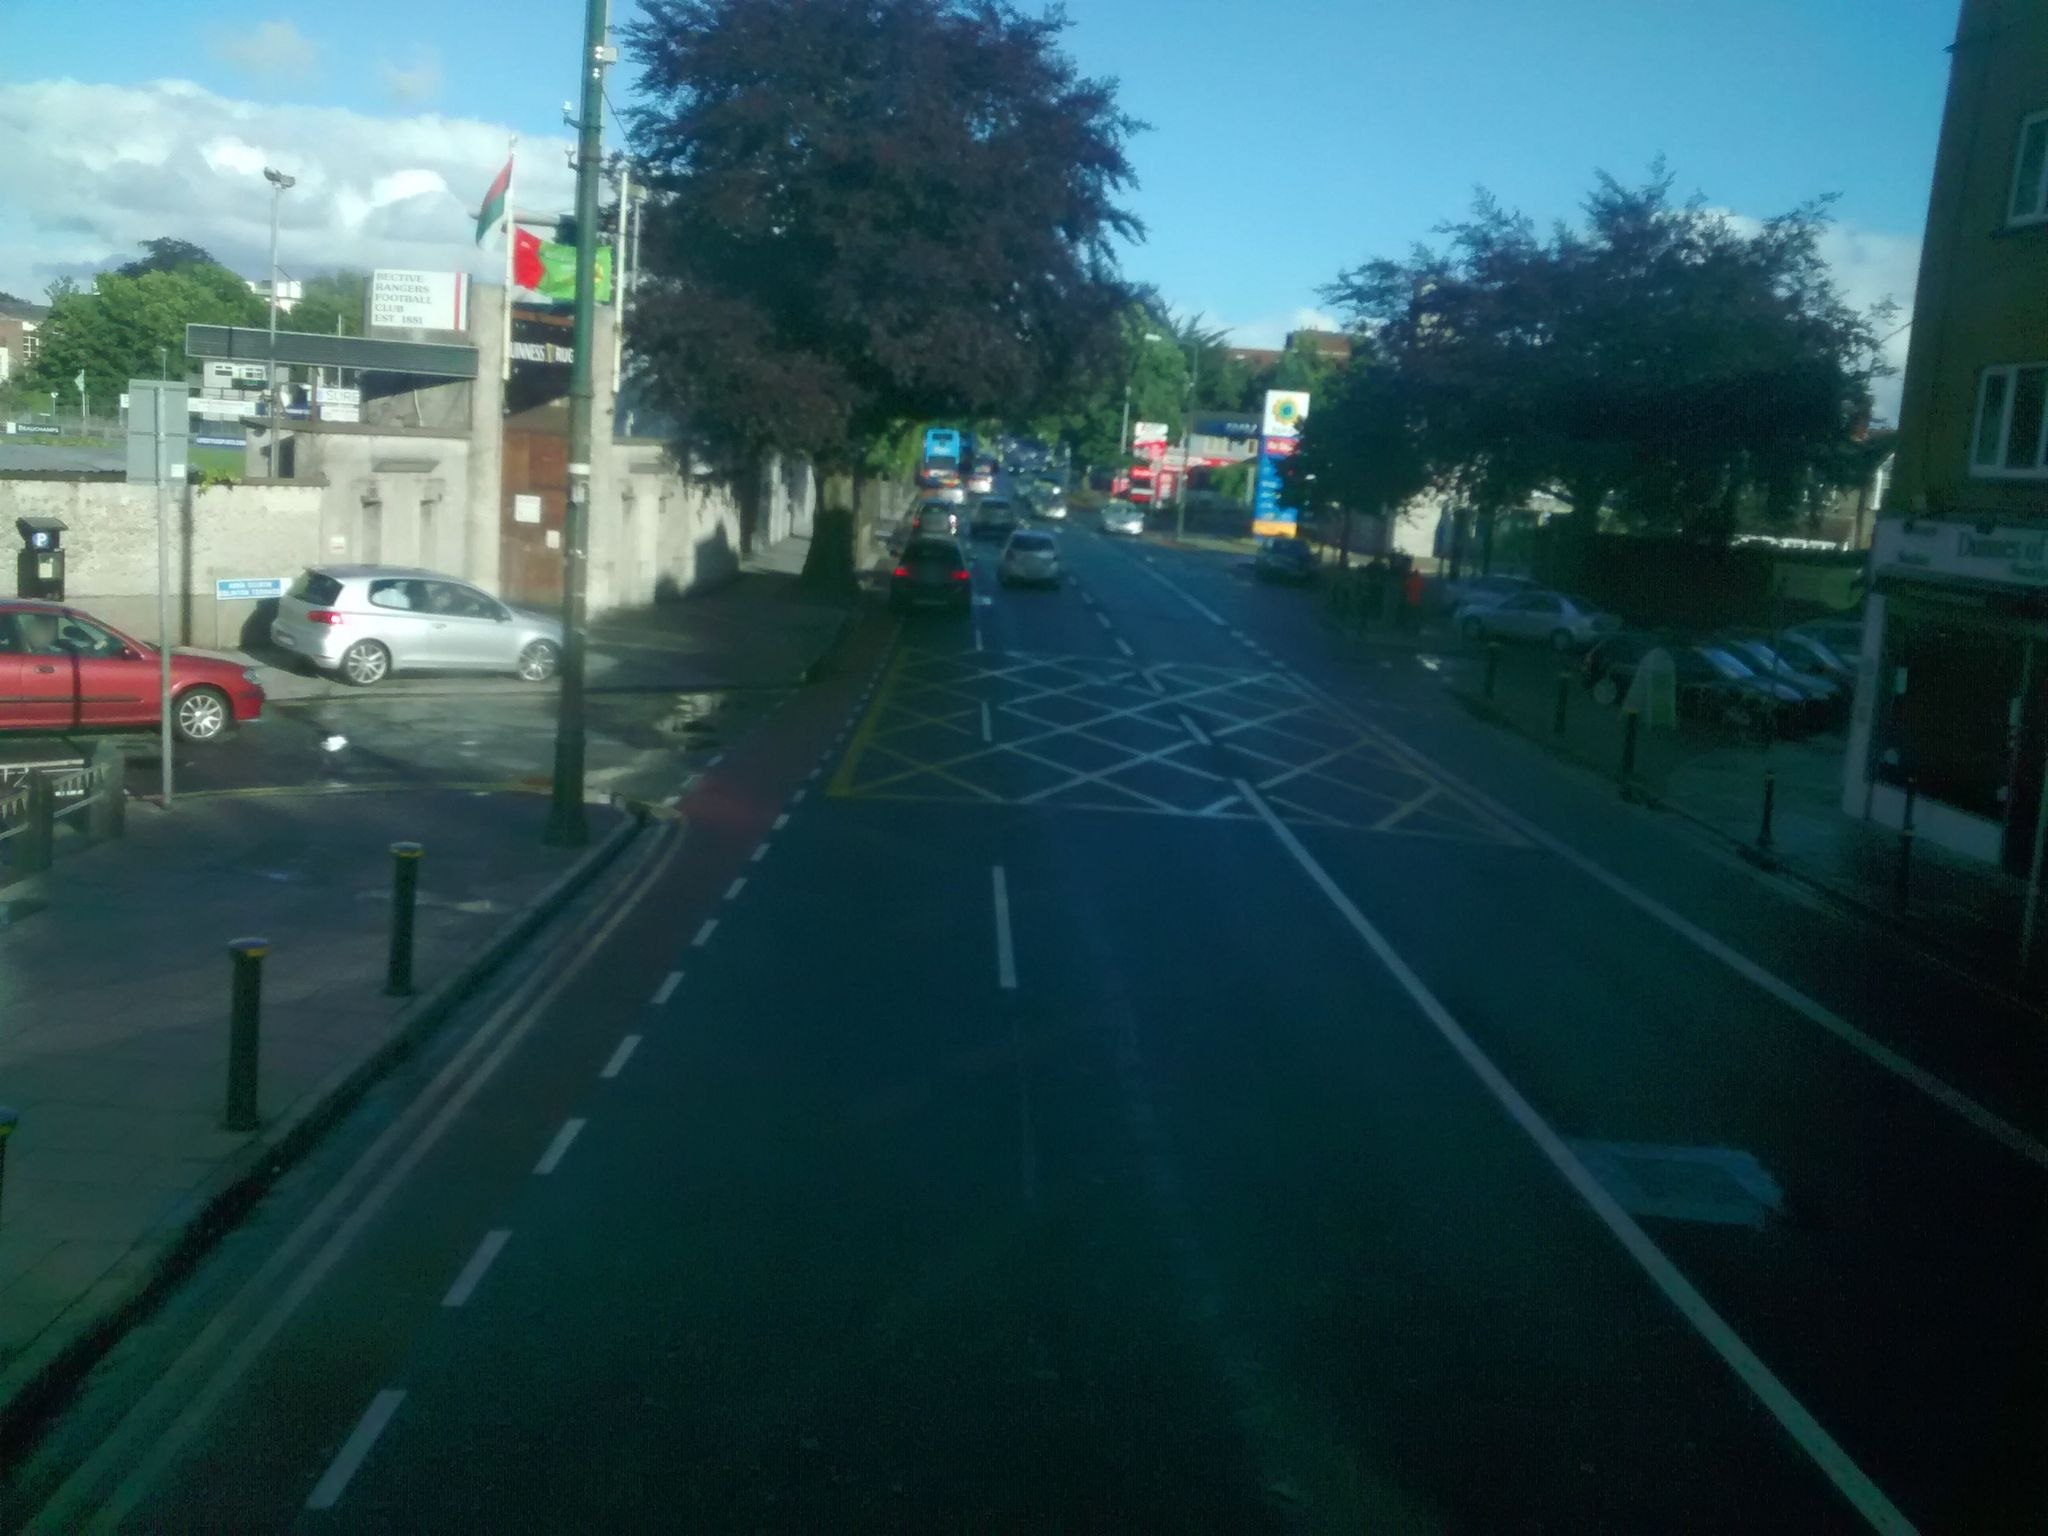vinyl banner: (498, 190, 622, 321)
